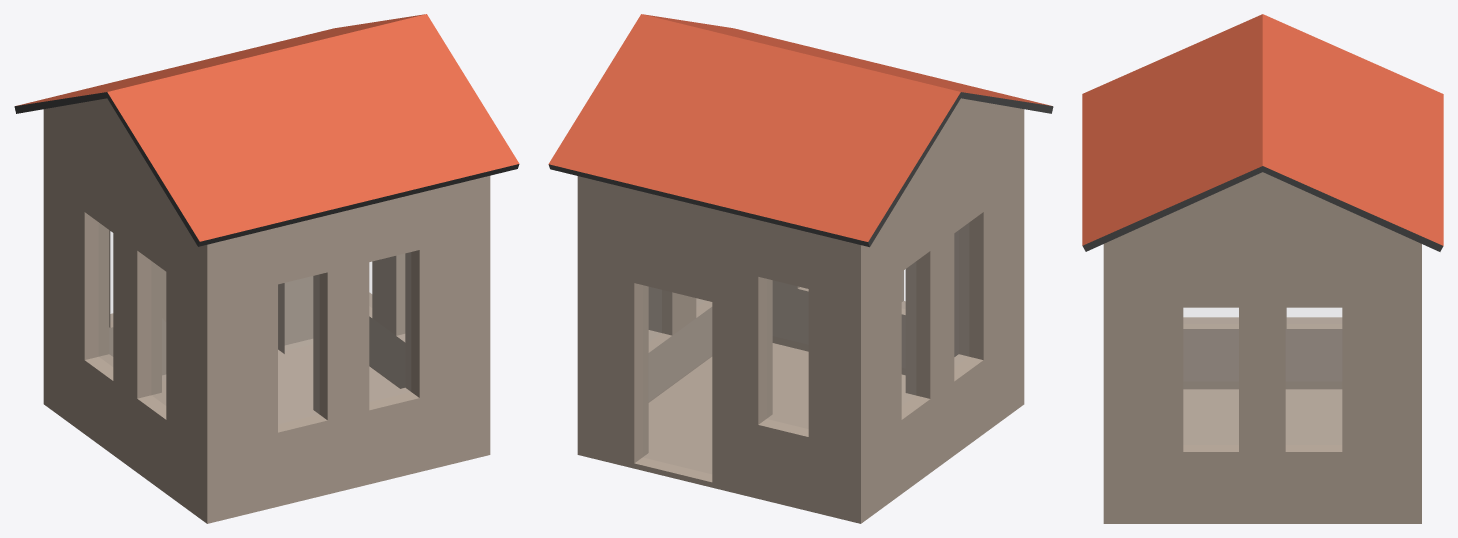
Rendered from House.fbx.
The picture shows the model from 3 angles, left to right: view 1: azimuth 30°, elevation 25°; view 2: azimuth 150°, elevation 25°; view 3: azimuth 270°, elevation 25°; orthographic projection. The views are drawn at different scales.
Visible parts, largest first — view 1: Plane.002, Plane.006, Plane.001, Plane.004, Plane.005, Plane.003, Plane; view 2: Plane.003, Plane.005, Plane.001, Plane, Plane.004, Plane.006, Plane.002; view 3: Plane.004, Plane.005, Plane.006, Plane.001, Plane.
Boxes of the visible parts, x1,y1,x2,y2 form: Plane.002: [207, 176, 490, 523]; Plane.006: [107, 14, 519, 246]; Plane.001: [43, 98, 207, 523]; Plane.004: [369, 253, 405, 388]; Plane.005: [14, 14, 424, 113]; Plane.003: [109, 230, 313, 375]; Plane: [162, 338, 399, 418]; Plane.003: [577, 176, 860, 523]; Plane.005: [548, 14, 960, 247]; Plane.001: [861, 98, 1024, 523]; Plane: [648, 343, 905, 468]; Plane.004: [648, 286, 712, 402]; Plane.006: [643, 14, 1053, 113]; Plane.002: [772, 230, 958, 375]; Plane.004: [1103, 172, 1421, 523]; Plane.005: [1262, 14, 1443, 251]; Plane.006: [1082, 14, 1262, 251]; Plane.001: [1183, 307, 1342, 389]; Plane: [1183, 389, 1342, 439].
Size of the model in its own units: 226 by 254 by 227.
